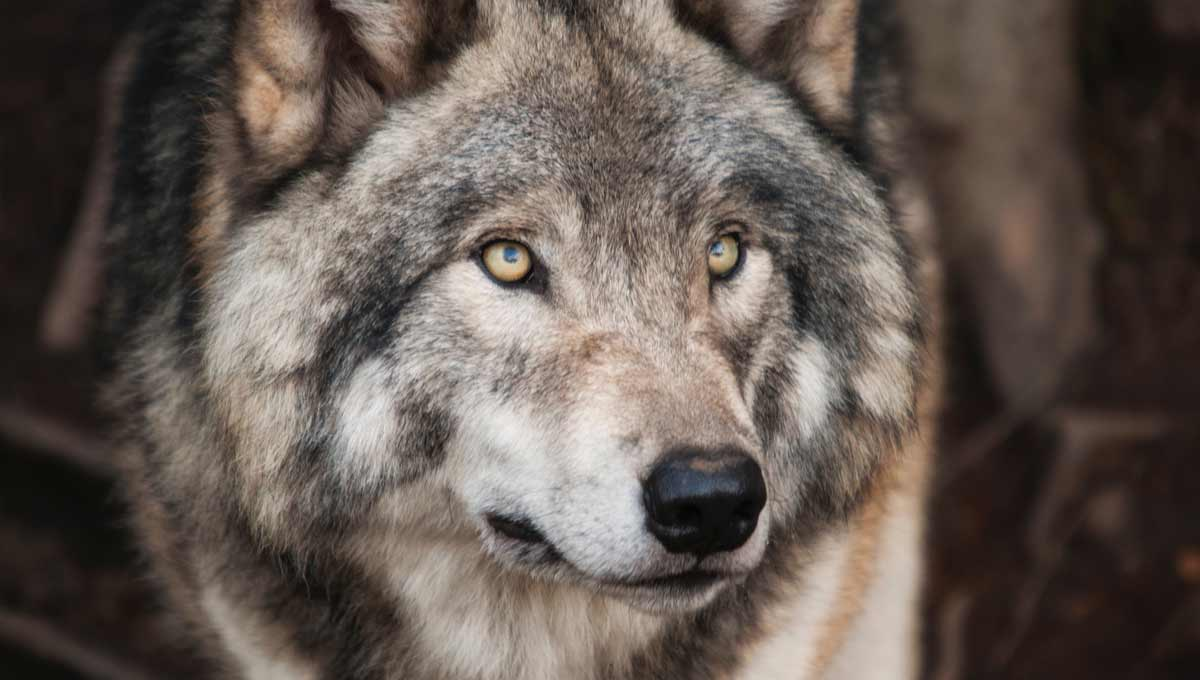Lobo: (97, 25, 986, 680)
